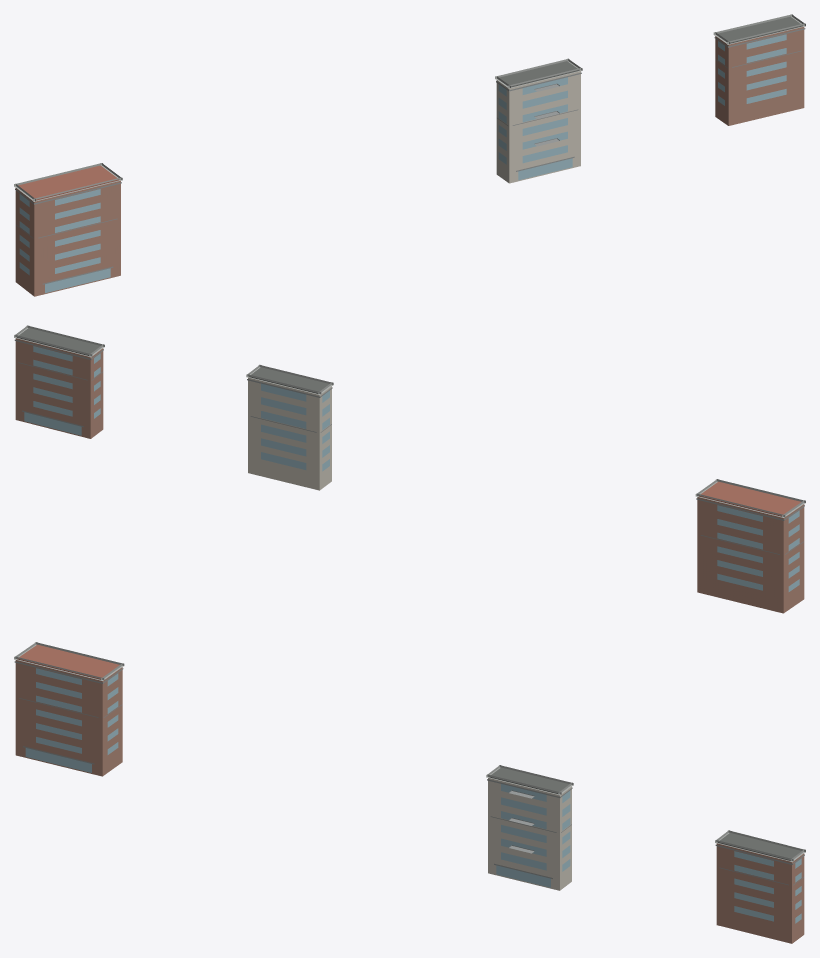
3 renders of one model, top to bottom at view 1: azimuth 30°, elevation 25°; view 2: azimuth 150°, elevation 25°; view 3: azimuth 330°, elevation 25°, orthographic.
Visible parts, largest first — view 1: building-0379-mesh-0, building-0556-mesh-11, building-0493-mesh-5, building-0493-mesh-6, building-0379-mesh-1, building-0379-mesh-3, building-0556-mesh-12, building-0556-mesh-14, building-0493-mesh-9, building-0379-mesh-4, building-0556-mesh-15, building-0493-mesh-10; view 2: building-0379-mesh-0, building-0493-mesh-5, building-0556-mesh-11, building-0493-mesh-6, building-0379-mesh-1, building-0556-mesh-12, building-0379-mesh-3, building-0556-mesh-14, building-0493-mesh-9, building-0379-mesh-4, building-0556-mesh-15, building-0493-mesh-10; view 3: building-0379-mesh-0, building-0556-mesh-11, building-0493-mesh-5, building-0379-mesh-1, building-0493-mesh-6, building-0379-mesh-3, building-0556-mesh-12, building-0556-mesh-14, building-0493-mesh-9, building-0379-mesh-4, building-0556-mesh-15, building-0493-mesh-10.
Boxes of the visible parts, bbox=[...] form: building-0379-mesh-0: bbox=[15, 181, 120, 296]; building-0556-mesh-11: bbox=[715, 27, 804, 125]; building-0493-mesh-5: bbox=[496, 71, 580, 183]; building-0493-mesh-6: bbox=[498, 77, 572, 180]; building-0379-mesh-1: bbox=[19, 189, 110, 293]; building-0379-mesh-3: bbox=[18, 165, 119, 200]; building-0556-mesh-12: bbox=[718, 34, 786, 105]; building-0556-mesh-14: bbox=[718, 16, 802, 43]; building-0493-mesh-9: bbox=[499, 61, 579, 87]; building-0379-mesh-4: bbox=[14, 163, 122, 201]; building-0556-mesh-15: bbox=[713, 14, 805, 44]; building-0493-mesh-10: bbox=[495, 58, 582, 88]; building-0379-mesh-0: bbox=[697, 497, 804, 613]; building-0493-mesh-5: bbox=[248, 377, 331, 490]; building-0556-mesh-11: bbox=[15, 338, 103, 438]; building-0493-mesh-6: bbox=[261, 383, 329, 471]; building-0379-mesh-1: bbox=[717, 505, 799, 591]; building-0556-mesh-12: bbox=[24, 346, 100, 435]; building-0379-mesh-3: bbox=[699, 481, 800, 516]; building-0556-mesh-14: bbox=[17, 328, 100, 355]; building-0493-mesh-9: bbox=[249, 367, 328, 393]; building-0379-mesh-4: bbox=[695, 479, 805, 517]; building-0556-mesh-15: bbox=[14, 325, 104, 357]; building-0493-mesh-10: bbox=[246, 364, 333, 395]; building-0379-mesh-0: bbox=[15, 660, 122, 776]; building-0556-mesh-11: bbox=[716, 843, 804, 943]; building-0493-mesh-5: bbox=[488, 778, 571, 890]; building-0379-mesh-1: bbox=[25, 668, 118, 772]; building-0493-mesh-6: bbox=[496, 784, 570, 887]; building-0379-mesh-3: bbox=[17, 644, 119, 679]; building-0556-mesh-12: bbox=[734, 851, 801, 923]; building-0556-mesh-14: bbox=[718, 832, 801, 860]; building-0493-mesh-9: bbox=[489, 767, 569, 793]; building-0379-mesh-4: bbox=[14, 642, 124, 680]; building-0556-mesh-15: bbox=[715, 830, 805, 862]; building-0493-mesh-10: bbox=[486, 765, 573, 795].
Bounding box in the file's own units: 199 × 24 × 11.89.
